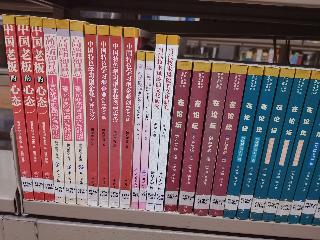book-spine: (258, 67, 312, 223), (246, 65, 296, 223), (270, 70, 320, 226), (232, 64, 280, 222), (220, 63, 265, 221), (207, 63, 247, 218), (2, 13, 34, 202), (14, 13, 45, 203), (191, 62, 229, 216), (149, 34, 180, 213), (160, 60, 195, 213), (176, 61, 211, 214), (29, 16, 54, 203), (142, 35, 168, 212), (54, 17, 77, 205), (43, 18, 66, 204), (68, 20, 87, 206), (117, 26, 136, 209), (106, 25, 124, 209), (83, 24, 99, 208), (138, 52, 156, 211), (129, 51, 145, 211), (98, 25, 109, 207)
